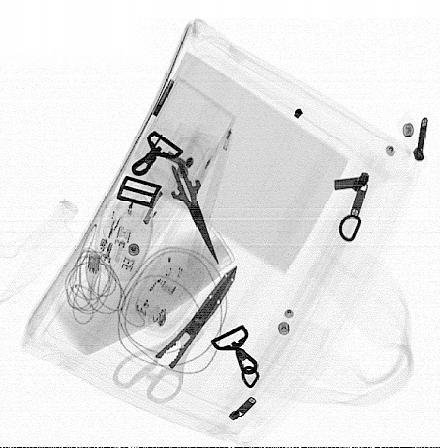Scissors: (112, 263, 239, 405), (146, 134, 219, 267)
